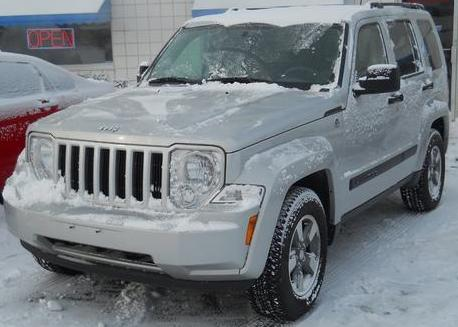front_view: (5, 125, 272, 286)
headlight: (169, 147, 268, 213)
side_glass: (351, 12, 442, 81)
